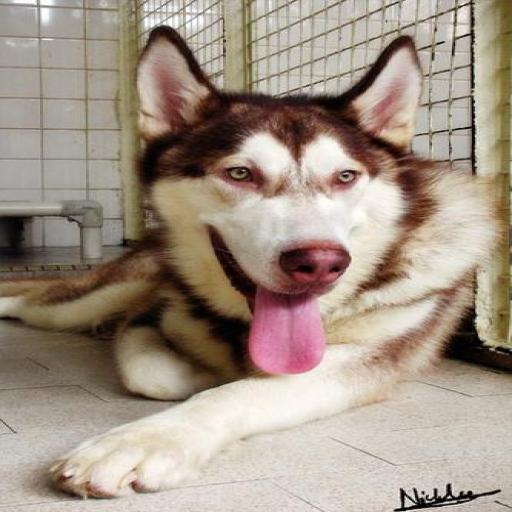dog_face: (122, 30, 432, 338)
